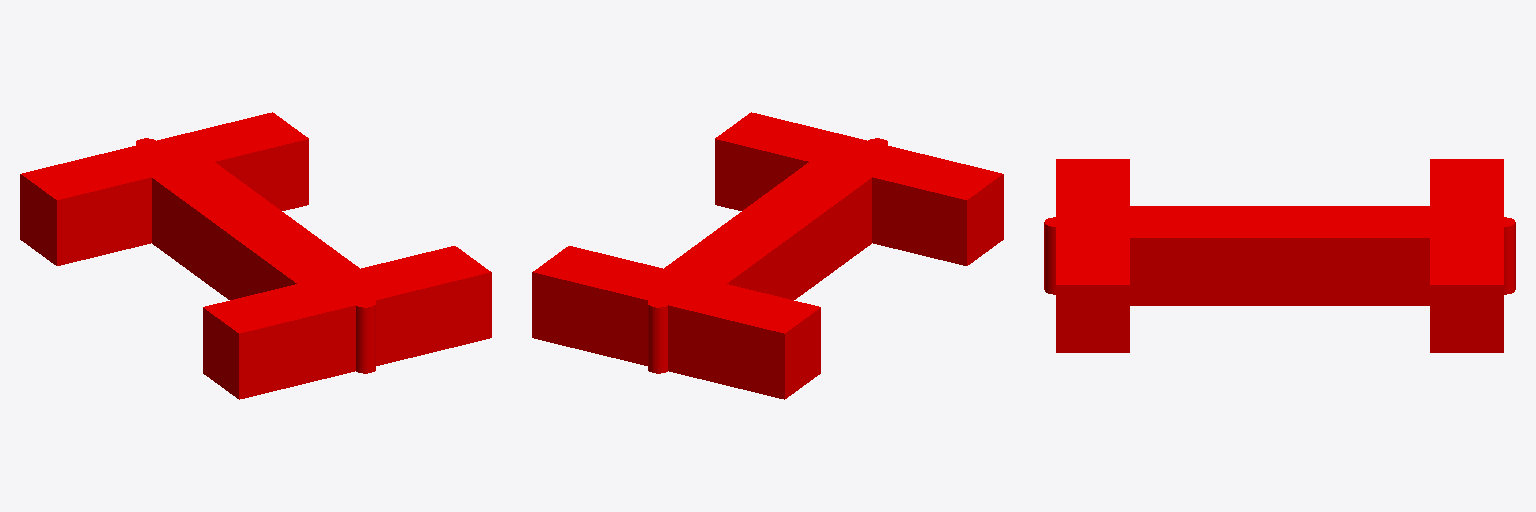
URDF robot description (compositeH):
<?xml version="1.0" encoding="utf-8"?>

<robot name="compositeH">
  <link name="object">
    <inertial>
      <origin
        xyz="0 0 0.025"
        rpy="0 0 0" />
      <mass
        value="0.352" />
      <inertia
        ixx="0.00445815994"
        ixy="0"
        ixz="0"
        iyy="0.00111868326"
        iyz="0"
        izz="0.00497668852" />
    </inertial>
    <visual>
      <origin xyz="0 0 0" rpy="0 0 0" />
      <geometry>
        <mesh filename="package://composite-test-object/meshes/outershell.stl" />
      </geometry>
      <material name="color">
        <color rgba="1 0 0 1" />
      </material>
    </visual>
    <collision>
      <origin xyz="0 0 0" rpy="0 0 0" />
      <geometry>
        <mesh filename="package://composite-test-object/meshes/outershell.stl" />
      </geometry>
    </collision>
  </link>
</robot>

--- Render facts (derived) ---
Views: 3 orthographic renders of the robot side by side, from view 1: azimuth 30°, elevation 25°; view 2: azimuth 150°, elevation 25°; view 3: azimuth 270°, elevation 25°.
Model compositeH with 1 links and 0 joints (none), rooted at object, posed all joints at 0.
Visible links, largest first — view 1: object; view 2: object; view 3: object.
Boxes of the visible links, x1,y1,x2,y2 form: object: (20,112,491,399); object: (532,112,1003,399); object: (1044,159,1515,352).
Bounding box of the posed robot: 0.2 × 0.315 × 0.05 m (x, y, z).
Meshes: 1 distinct files referenced, 1 mesh visuals loaded (1 binary STL).